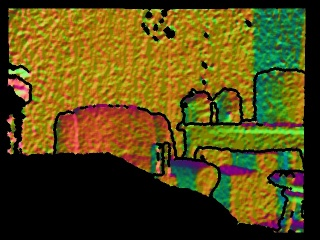station: (151, 142, 178, 188)
